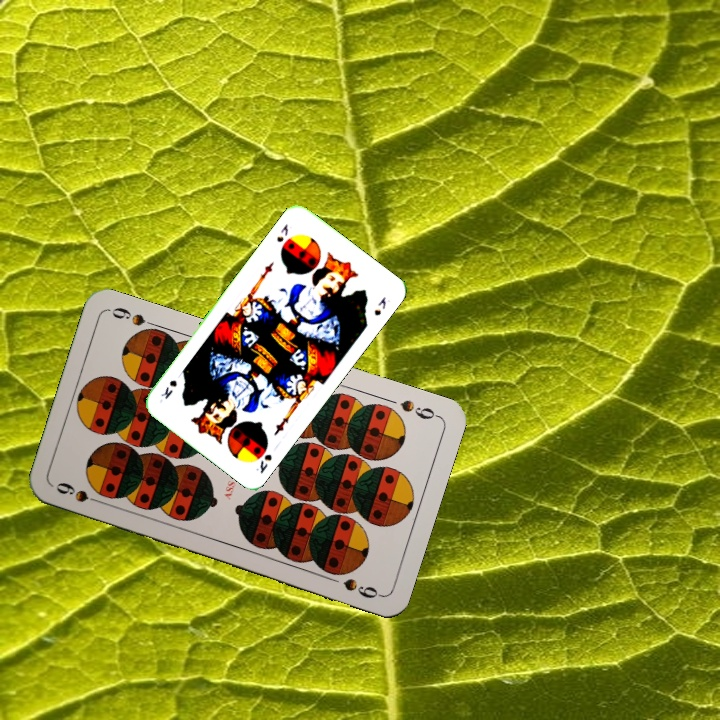S9: (52, 478, 109, 508), (396, 395, 442, 422)
SK: (252, 450, 275, 477), (272, 219, 291, 245)
